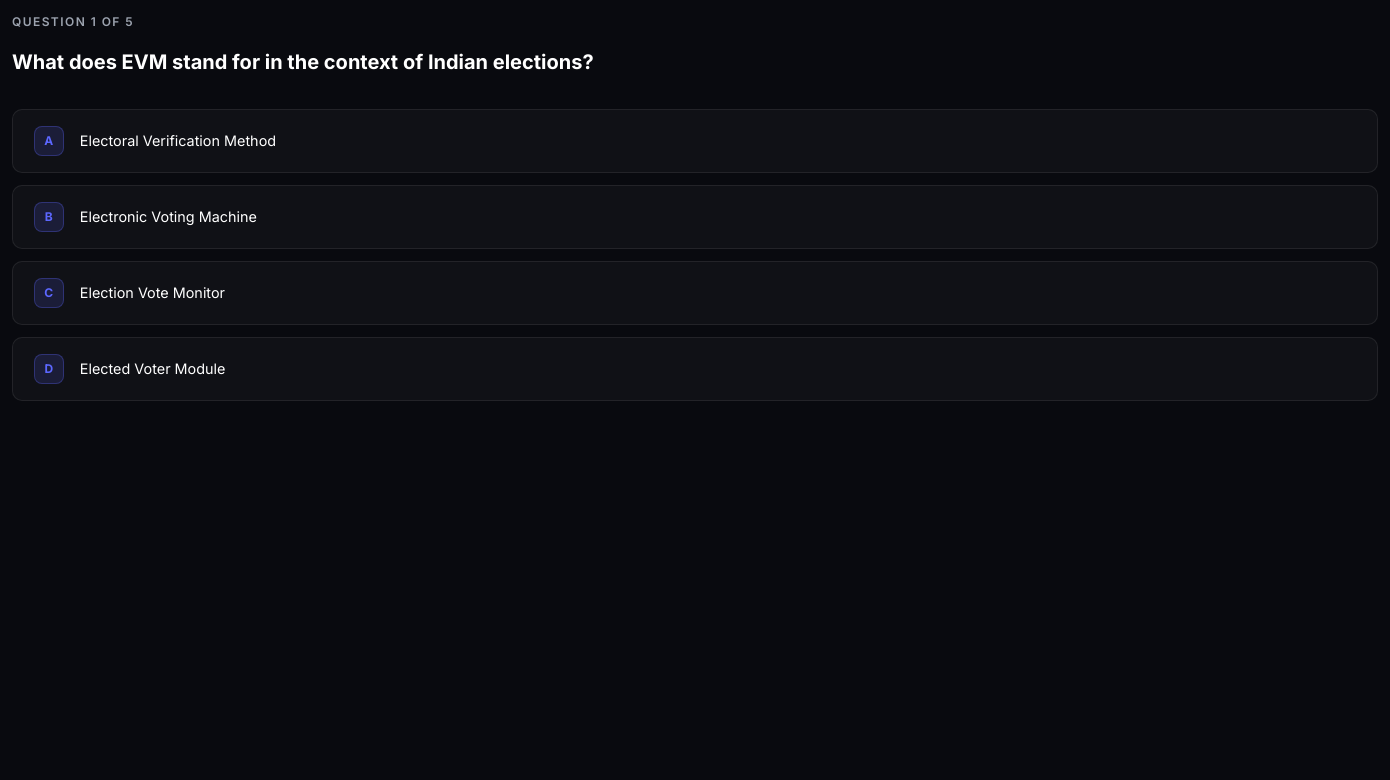
Test case: QuizQuestion Component › provides feedback for wrong answer
Click the text "Election Vote Monitor": point(152, 293) [80,282,225,304]
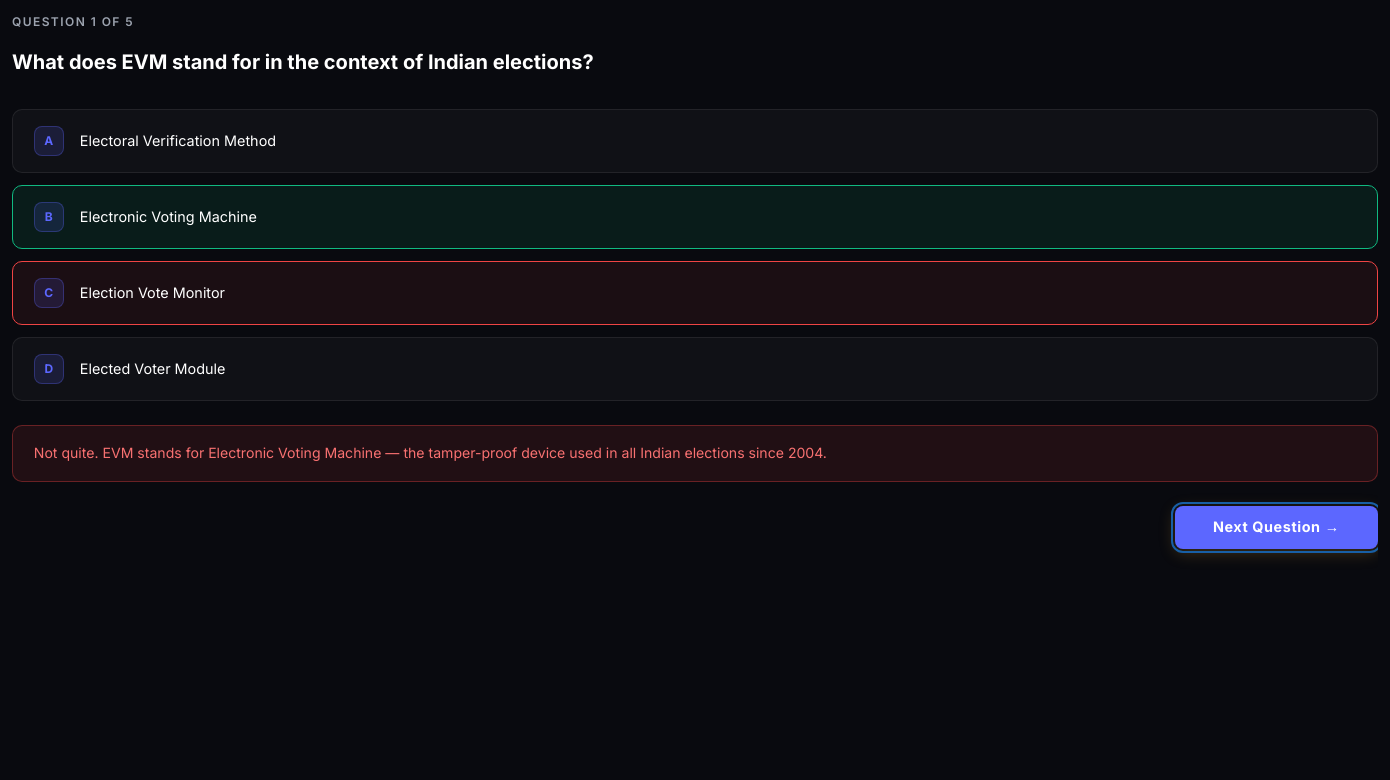
Expected: the text "Not quite. EVM stands for Electronic Voting Machine — the tamper-proof device used in all Indian elections since 2004." is shown, [34,444,827,461]
